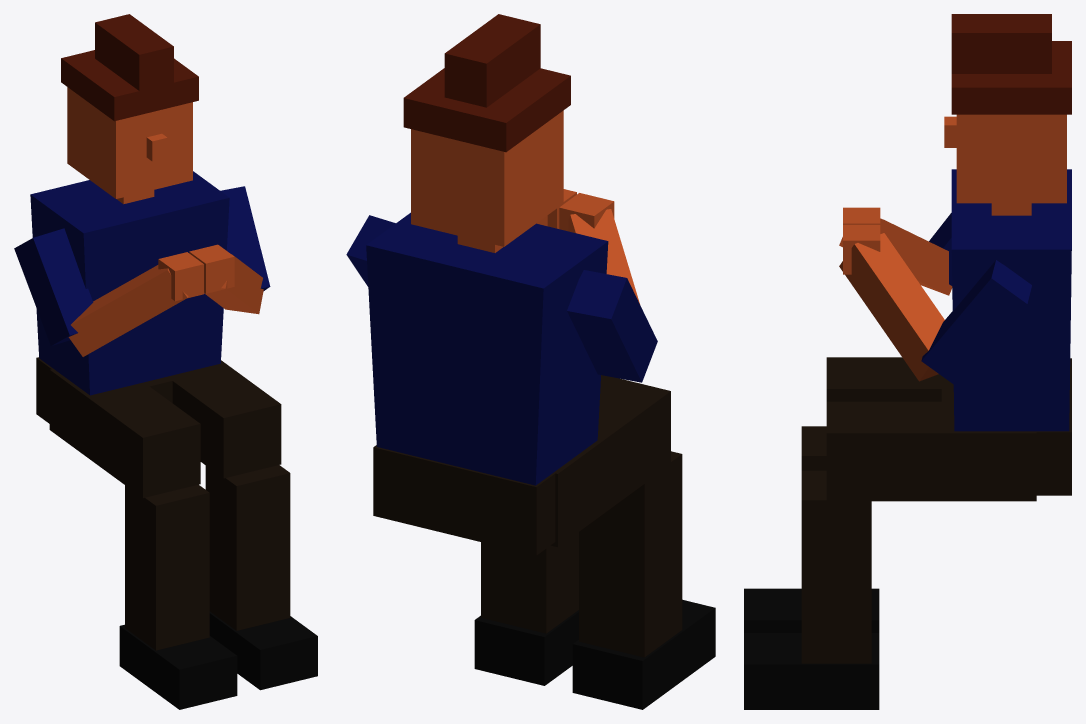
File: espectador_D.obj
The picture shows the model from 3 angles, left to right: view 1: azimuth 30°, elevation 25°; view 2: azimuth 150°, elevation 25°; view 3: azimuth 270°, elevation 25°; orthographic projection. The views are drawn at different scales.
Parts seen in each view (by area): view 1: Espectador_D_Cuerpo; view 2: Espectador_D_Cuerpo; view 3: Espectador_D_Cuerpo.
Part boxes in pixels (x1,y1,x2,y2): Espectador_D_Cuerpo: (14, 14, 317, 709); Espectador_D_Cuerpo: (346, 14, 715, 709); Espectador_D_Cuerpo: (744, 14, 1071, 709).
Bounding box in the file's own units: 0.5672 × 1.43 × 0.655.
